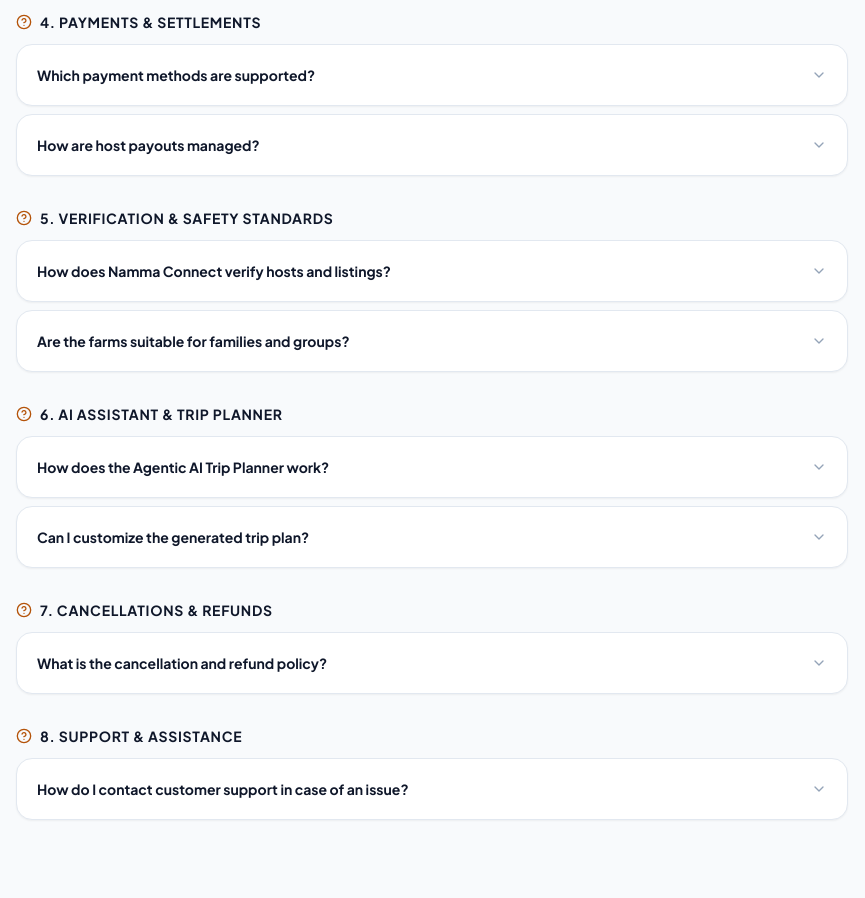
Test: Public Website Component & Page Suite › renders FAQPage with all 8 documented categories and expands accordion on click
(page scrolled)
Expected: the heading "4. Payments & Settlements" is shown, top-left (40, 12), bottom-right (261, 32)
Expected: the heading "5. Verification & Safety Standards" is shown, top-left (40, 208), bottom-right (334, 228)
Click the button "How do I contact customer support in case of an issue?".
click(223, 789)  # box top-left (17, 759), bottom-right (847, 819)
(page scrolled)
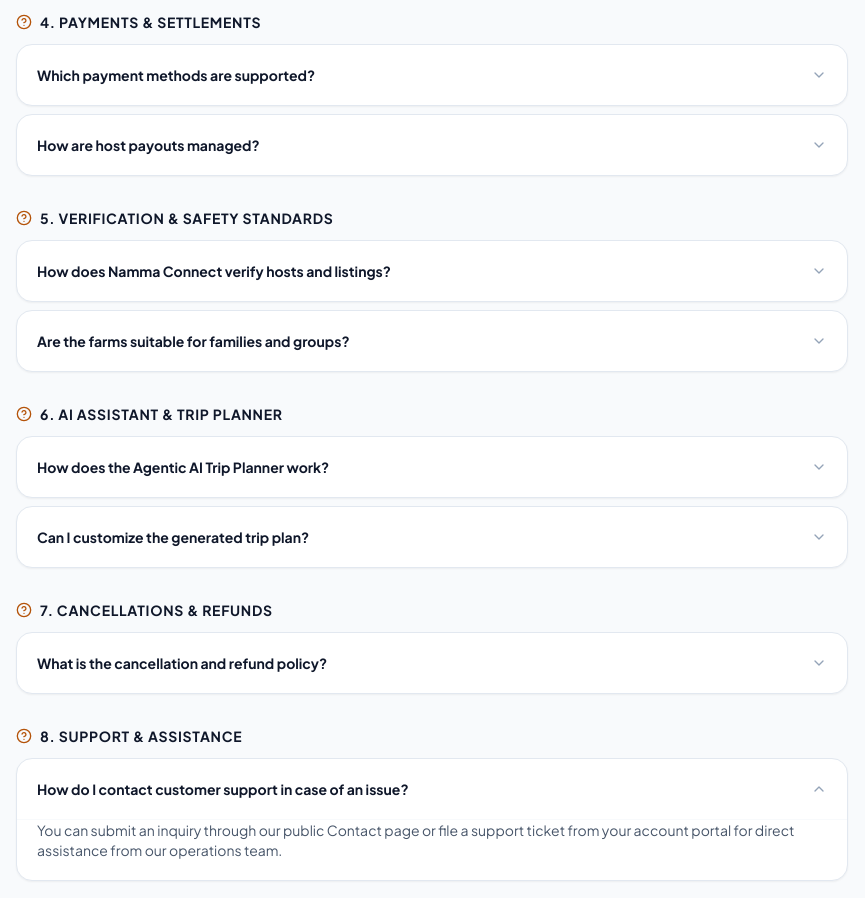
Now the text "submit an inquiry through our public Contact page" is shown, box top-left (37, 821), bottom-right (795, 859)
